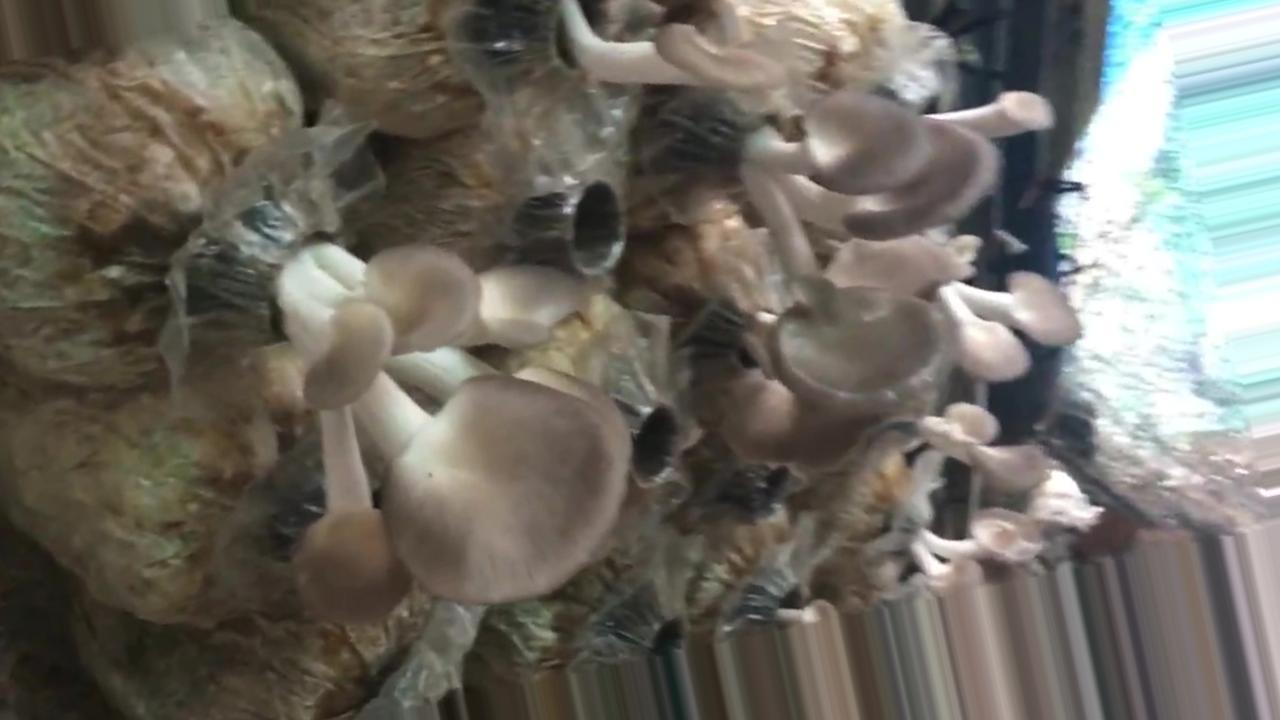nam: (243, 213, 625, 621), (720, 88, 1053, 410), (531, 1, 776, 89), (718, 363, 888, 462), (943, 270, 1078, 375), (917, 403, 1046, 498), (895, 503, 1043, 582)
